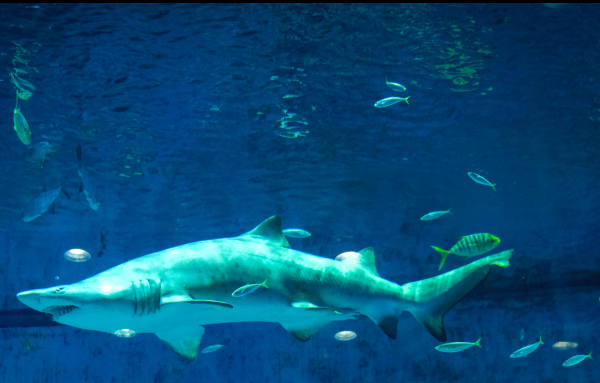fishLarge: (428, 232, 499, 271), (13, 92, 33, 148)
fishSmall: (434, 336, 482, 355), (230, 278, 270, 299), (509, 337, 544, 360), (468, 171, 496, 192), (561, 350, 592, 368), (373, 96, 411, 109), (282, 226, 312, 242), (420, 209, 451, 221), (200, 343, 227, 355), (385, 77, 406, 92)
shark: (16, 214, 515, 363)
